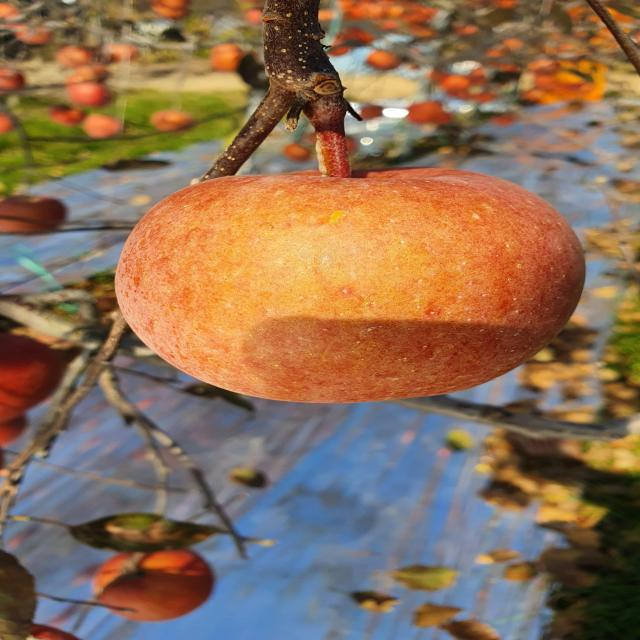fresh: (101, 160, 600, 413)
